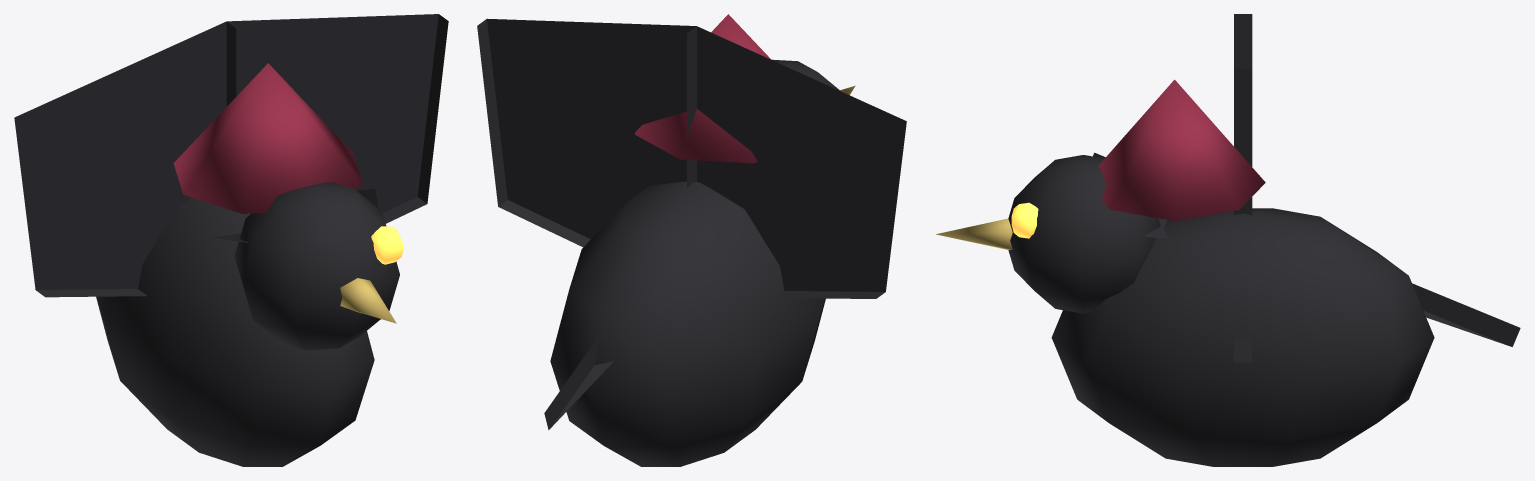
The model's file is raven_hooded.glb.
The picture shows the model from 3 angles, left to right: view 1: azimuth 30°, elevation 25°; view 2: azimuth 150°, elevation 25°; view 3: azimuth 270°, elevation 25°; orthographic projection. The views are drawn at different scales.
Parts seen in each view (by area): view 1: GD_raven_hooded__m0, GD_raven_hooded__m3, GD_raven_hooded__m1, GD_raven_hooded__m2; view 2: GD_raven_hooded__m0, GD_raven_hooded__m3; view 3: GD_raven_hooded__m0, GD_raven_hooded__m3, GD_raven_hooded__m1, GD_raven_hooded__m2.
Boxes of the visible parts, <box> form: GD_raven_hooded__m0: <box>14,14,448,466</box>; GD_raven_hooded__m3: <box>173,63,362,213</box>; GD_raven_hooded__m1: <box>340,278,396,323</box>; GD_raven_hooded__m2: <box>371,226,403,264</box>; GD_raven_hooded__m0: <box>477,18,906,466</box>; GD_raven_hooded__m3: <box>634,14,771,163</box>; GD_raven_hooded__m0: <box>1008,14,1520,466</box>; GD_raven_hooded__m3: <box>1098,79,1265,221</box>; GD_raven_hooded__m1: <box>936,218,1012,250</box>; GD_raven_hooded__m2: <box>1011,202,1038,238</box>.
Bounding box in the file's own units: 0.2 × 0.19 × 0.2568.
